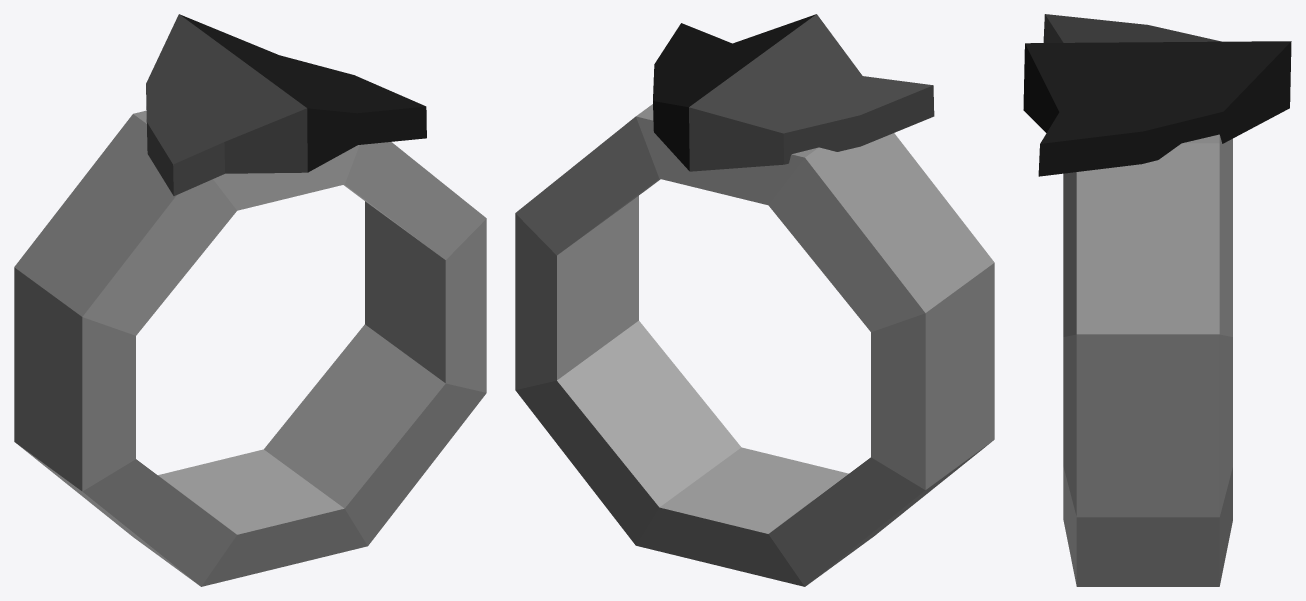
File: Item_Ring_01.fbx
3 renders of one model, left to right at view 1: azimuth 30°, elevation 25°; view 2: azimuth 150°, elevation 25°; view 3: azimuth 270°, elevation 25°, orthographic. The views are drawn at different scales.
Parts seen in each view (by area): view 1: SM_Item_Ring_01; view 2: SM_Item_Ring_01; view 3: SM_Item_Ring_01.
Boxes of the visible parts, x1,y1,x2,y2 form: SM_Item_Ring_01: [14, 14, 486, 586]; SM_Item_Ring_01: [515, 14, 994, 586]; SM_Item_Ring_01: [1023, 14, 1291, 586].
Bounding box in the file's own units: 5.07 × 5.73 × 2.78.
